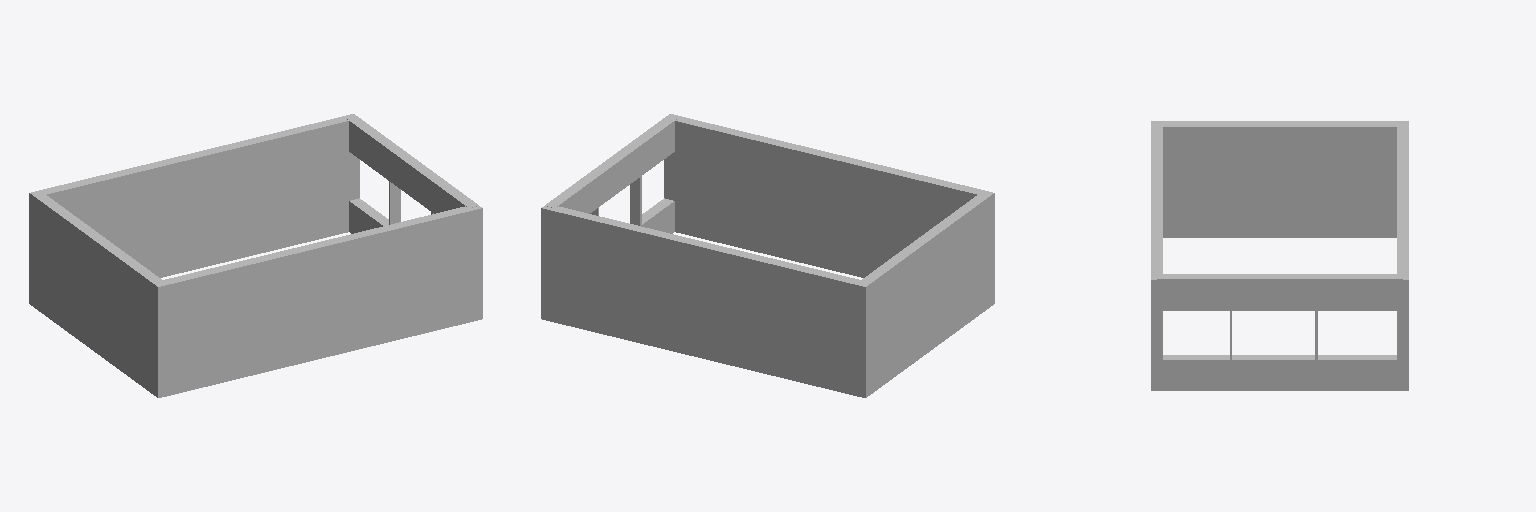
File: room1.obj
3 renders of one model, left to right at view 1: azimuth 30°, elevation 25°; view 2: azimuth 150°, elevation 25°; view 3: azimuth 270°, elevation 25°, orthographic.
Visible parts, largest first — view 1: wall3_Cube.016, wall2_Cube.015, wall1_Cube.010, Cube.004_Cube.020, Cube.003_Cube.017; view 2: wall2_Cube.015, wall3_Cube.016, wall1_Cube.010, Cube.004_Cube.020, Cube.003_Cube.017, Cube.005_Cube.022; view 3: wall1_Cube.010, Cube.004_Cube.020, Cube.003_Cube.017, wall2_Cube.015, wall3_Cube.016.
Part boxes in pixels (x1,y1,x2,y2): wall3_Cube.016: (158,206,482,396); wall2_Cube.015: (35,114,359,277); wall1_Cube.010: (29,192,168,397); Cube.004_Cube.020: (346,116,478,213); Cube.003_Cube.017: (349,198,388,233); wall2_Cube.015: (541,206,865,396); wall3_Cube.016: (664,114,988,277); wall1_Cube.010: (855,192,994,397); Cube.004_Cube.020: (545,116,677,213); Cube.003_Cube.017: (633,198,674,233); Cube.005_Cube.022: (630,174,641,226); wall1_Cube.010: (1151,121,1408,237); Cube.004_Cube.020: (1157,274,1402,310); Cube.003_Cube.017: (1157,355,1402,390); wall2_Cube.015: (1397,124,1408,390); wall3_Cube.016: (1151,124,1162,390).
Bounding box in the file's own units: 3.05 × 1 × 2.1.